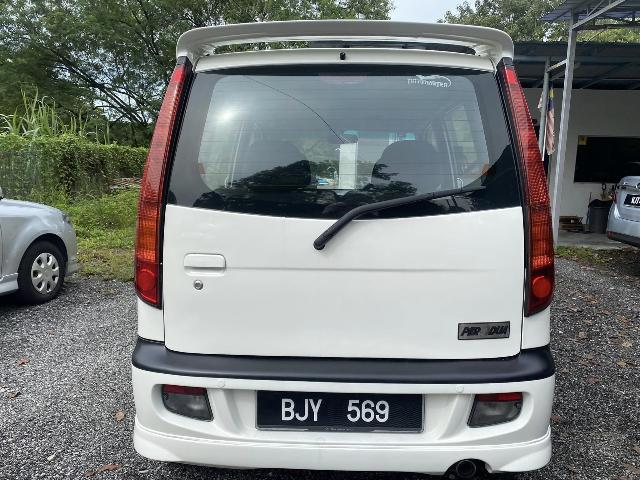License_Plate: (258, 392, 419, 435)
car: (117, 12, 563, 478)
